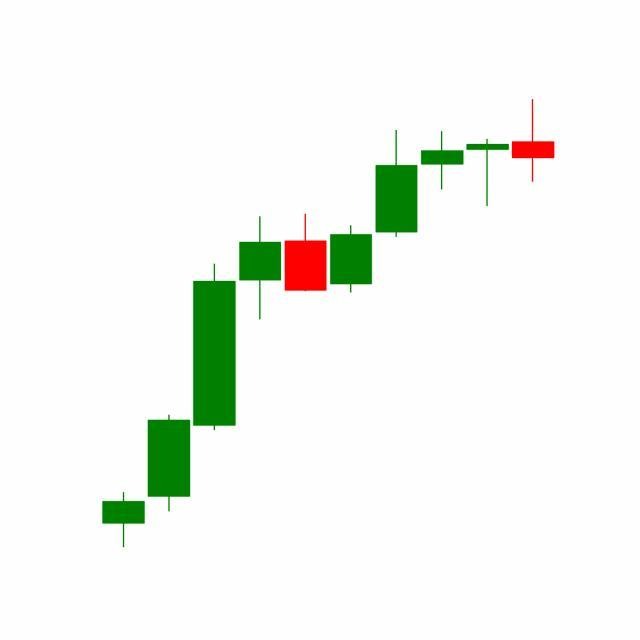Hikkake Pattern: (283, 129, 512, 295)
